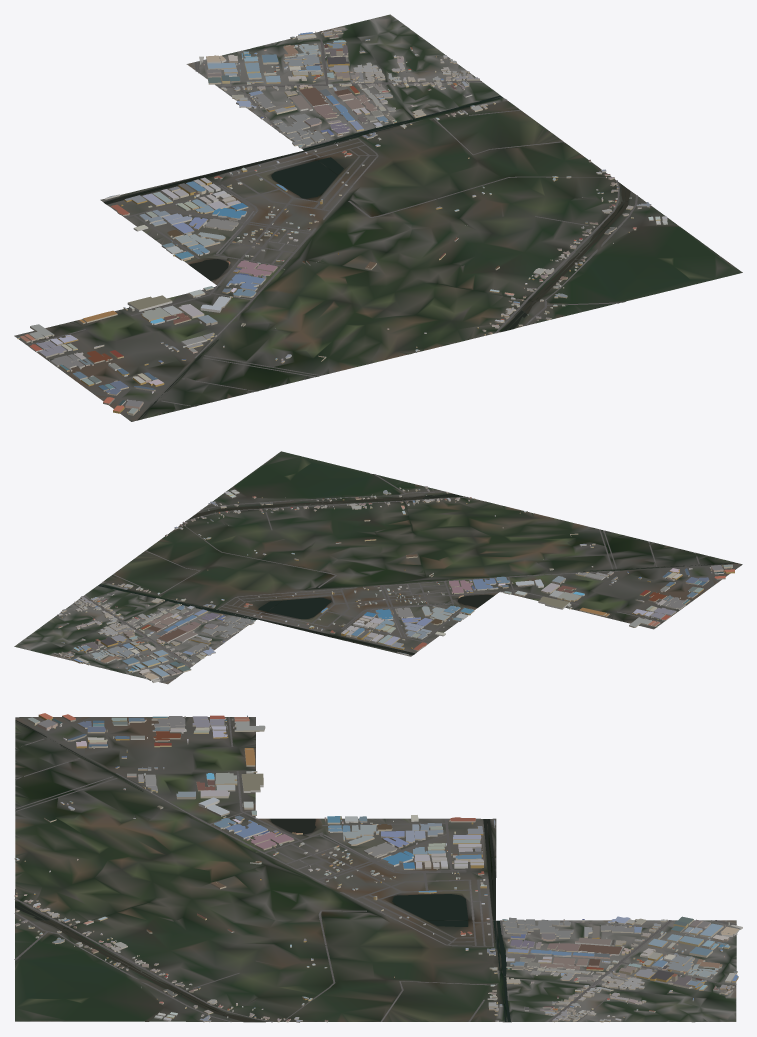
The picture shows the model from 3 angles, top to bottom: view 1: azimuth 30°, elevation 25°; view 2: azimuth 150°, elevation 25°; view 3: azimuth 270°, elevation 25°; orthographic projection. The views are drawn at different scales.
Parts seen in each view (by area): view 1: ground, buildings, roads, water; view 2: ground, buildings, roads, water; view 3: ground, buildings, roads, water.
Part boxes in pixels (x1,y1,x2,y2): ground: [14, 14, 742, 421]; buildings: [17, 27, 667, 415]; roads: [27, 38, 637, 406]; water: [104, 95, 630, 420]; ground: [14, 451, 742, 684]; buildings: [53, 486, 734, 682]; roads: [73, 474, 699, 682]; water: [98, 494, 737, 654]; ground: [15, 717, 736, 1022]; buildings: [14, 713, 742, 1022]; roads: [14, 717, 736, 1022]; water: [15, 720, 510, 1021].
Size of the model in its own units: 4242 by 46.13 by 4246.
